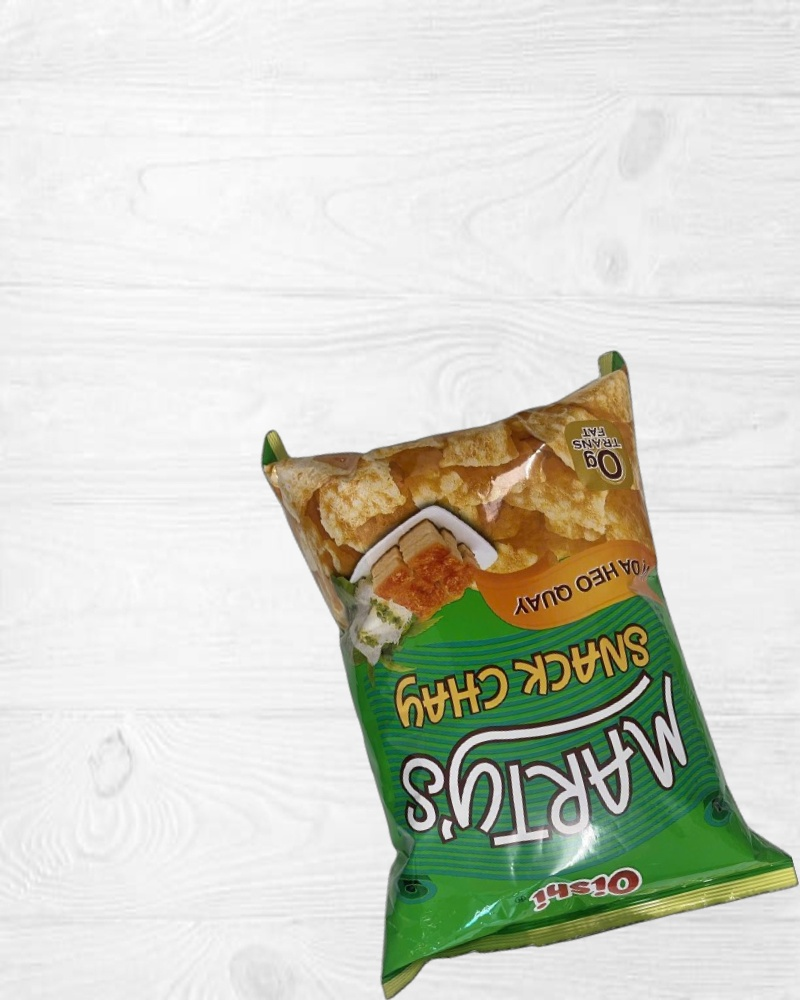Snack chay: (257, 331, 800, 995)
